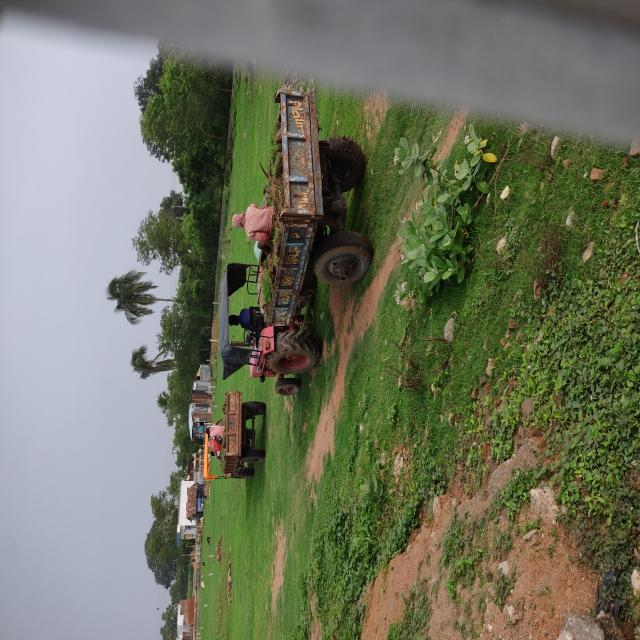Tractor: (191, 289, 414, 491)
